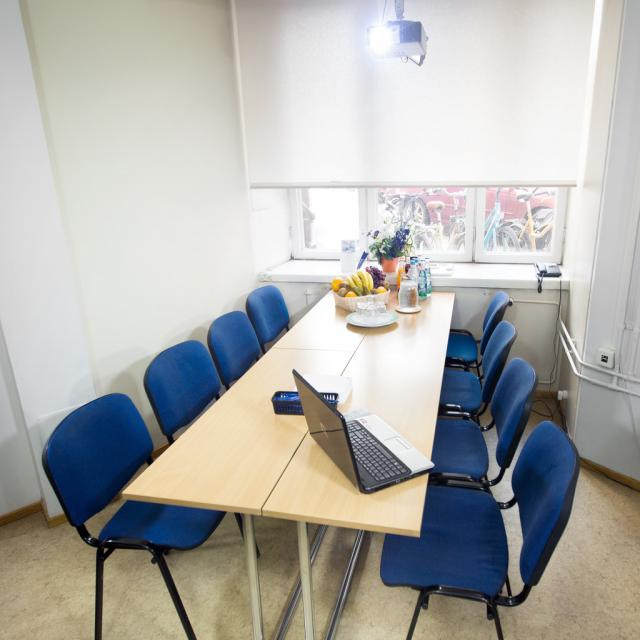chair: (42, 393, 224, 637), (381, 420, 580, 637), (143, 341, 223, 442), (440, 322, 516, 424), (445, 290, 511, 374), (207, 310, 262, 392), (246, 285, 290, 355)
desk: (82, 299, 477, 632)
laptop: (294, 372, 434, 495)
